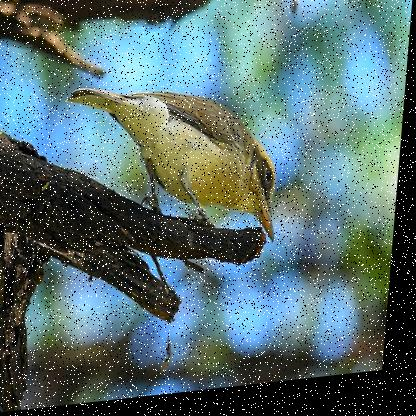Burung: (58, 72, 291, 266)
